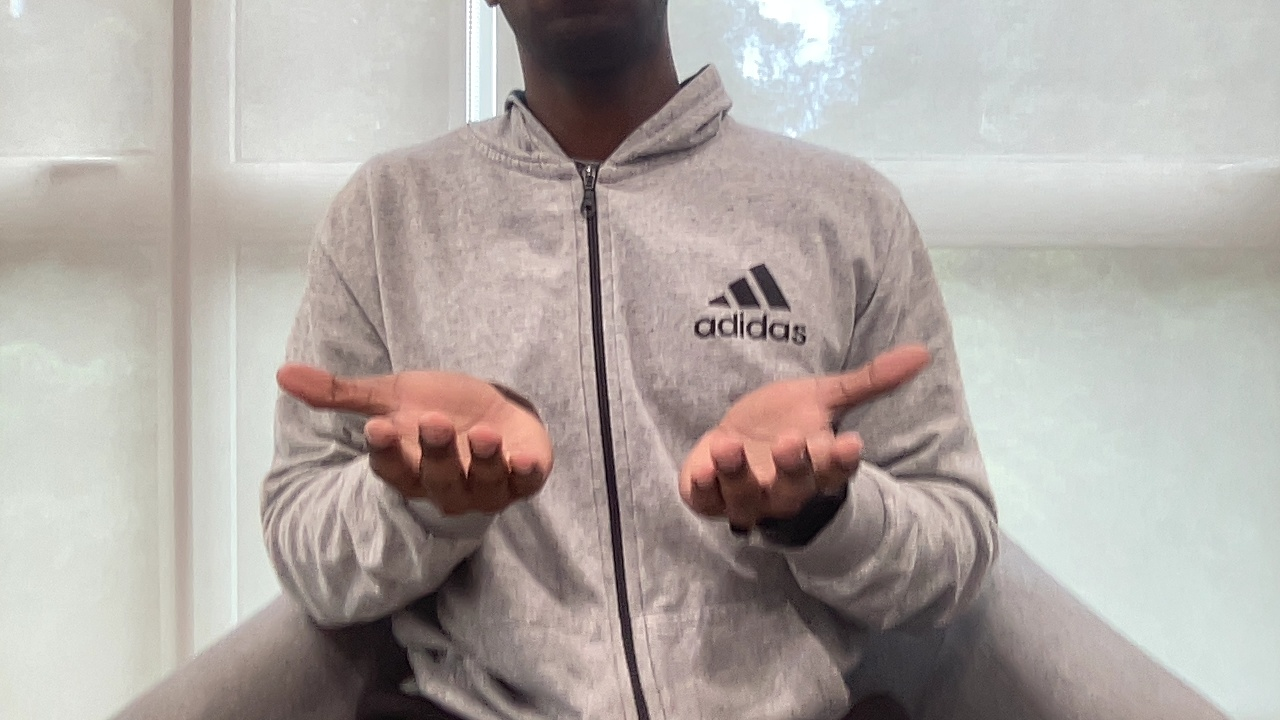give: (260, 326, 943, 534)
